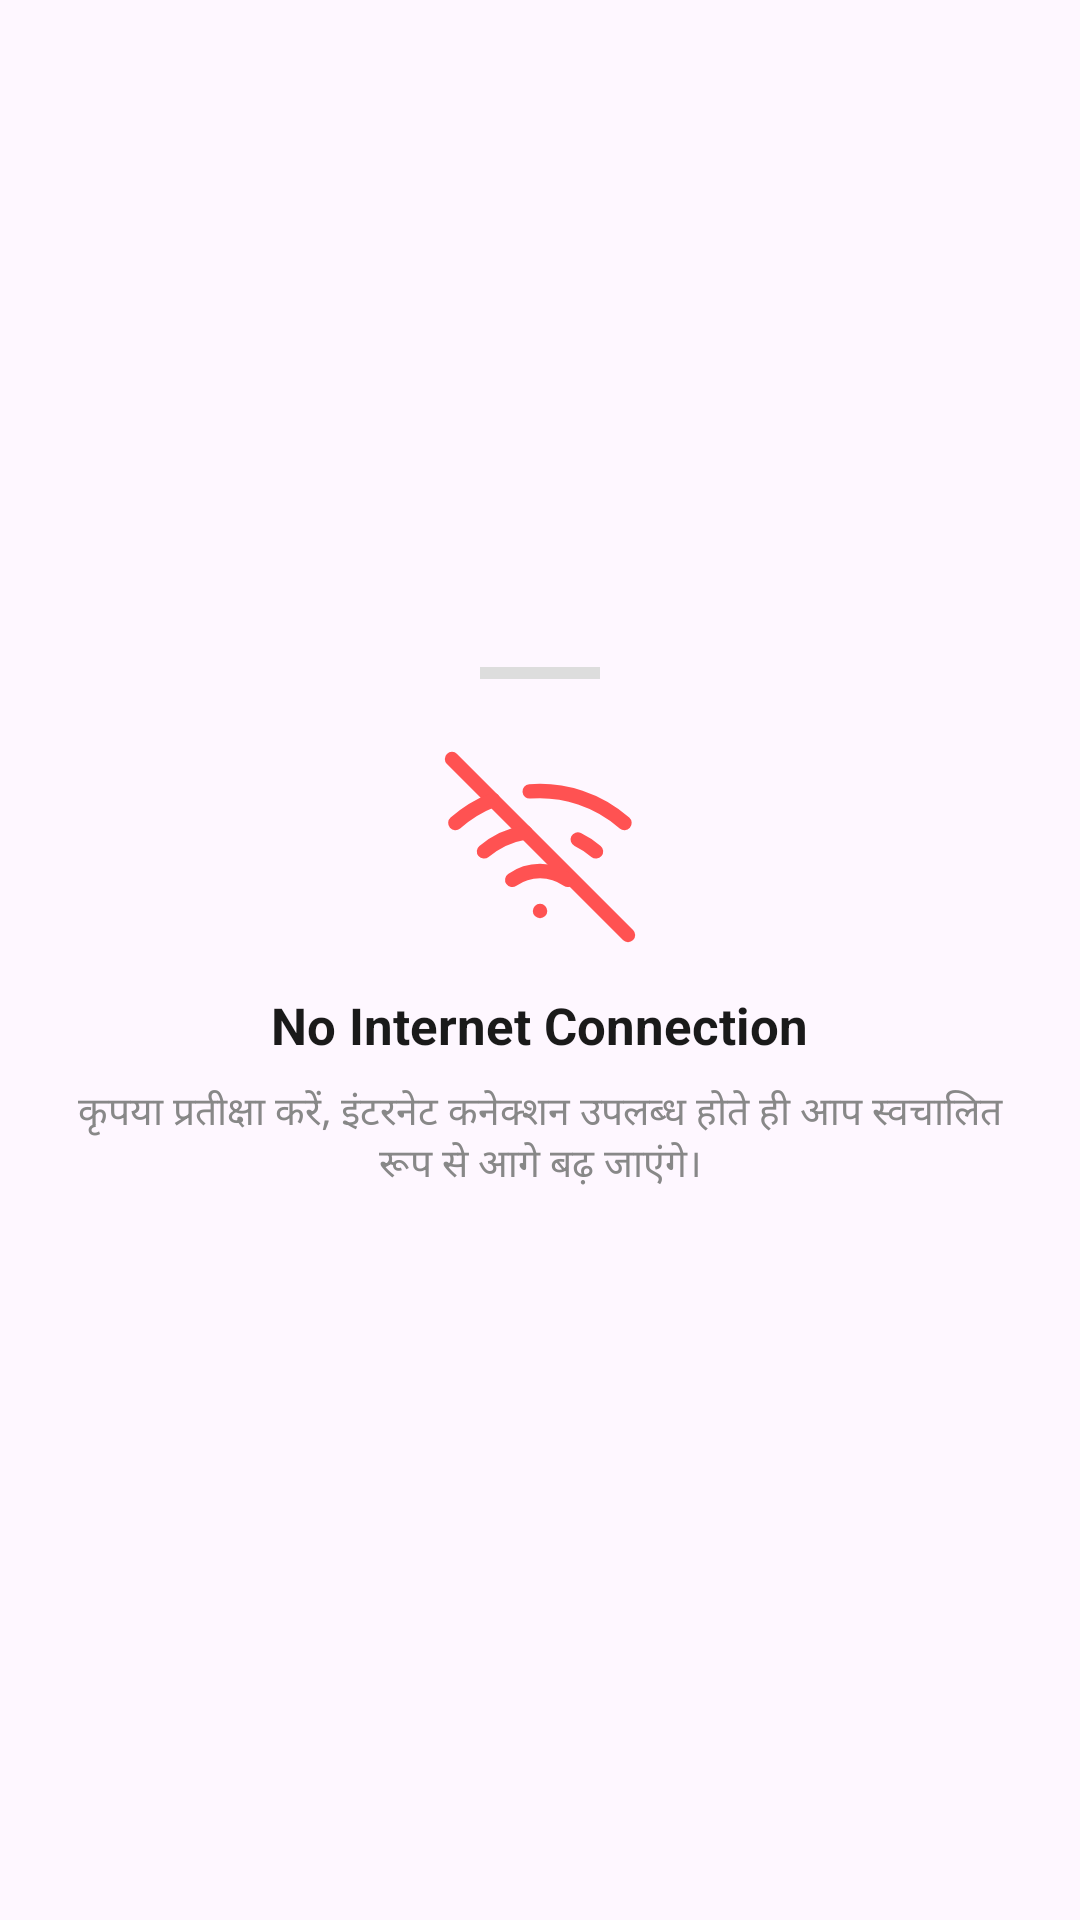

Icons on this 1080 x 1920 Android screen, each with the point to tap as (x=x, y=y):
no wifi: (x=540, y=846)
